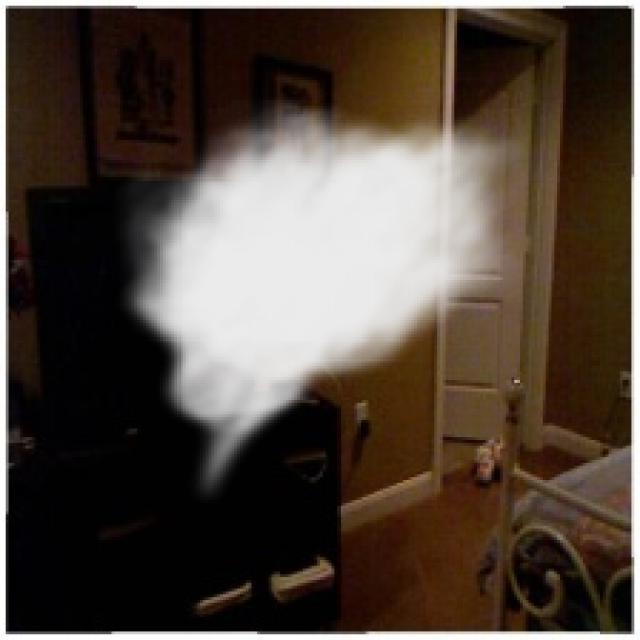Smoke: (114, 97, 529, 506)
